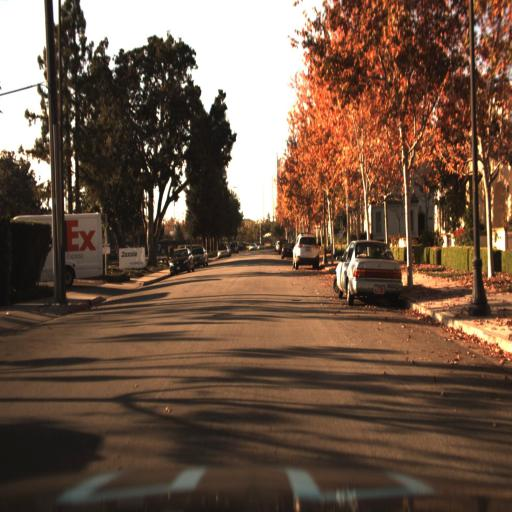car: (15, 209, 106, 287), (329, 235, 409, 310), (286, 227, 327, 276), (164, 240, 196, 281), (279, 236, 301, 264), (193, 243, 212, 273), (213, 241, 231, 265)
truck: (13, 204, 106, 287)
